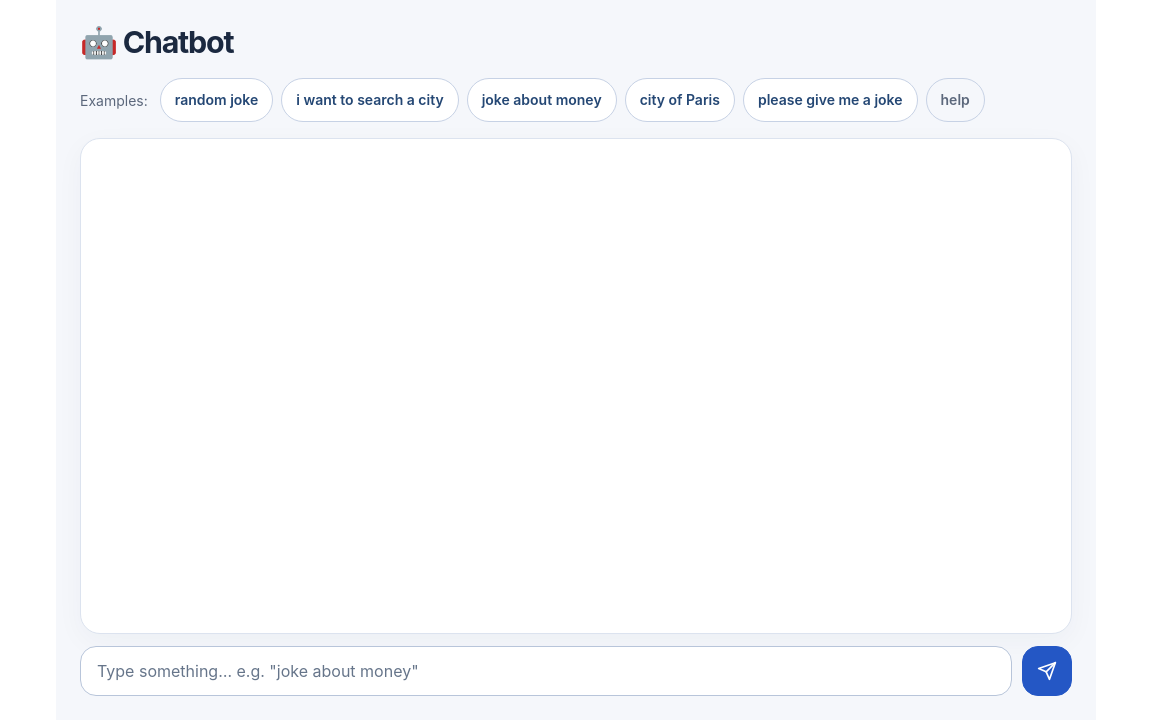
Test case: keeps the draft and never automatically repeats a failed POST
Type "Hi" into the field named "Chat message" at (546, 671), box [80,646,1012,696]
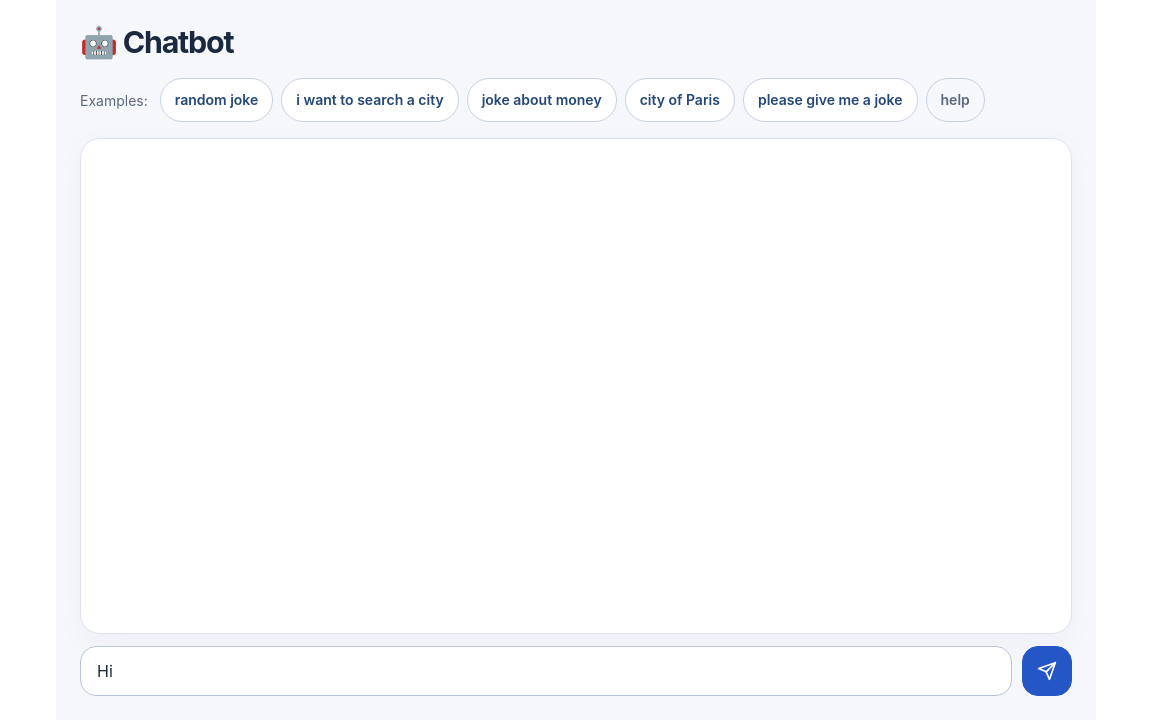
Press Enter in the field named "Chat message", box [80,646,1012,696]
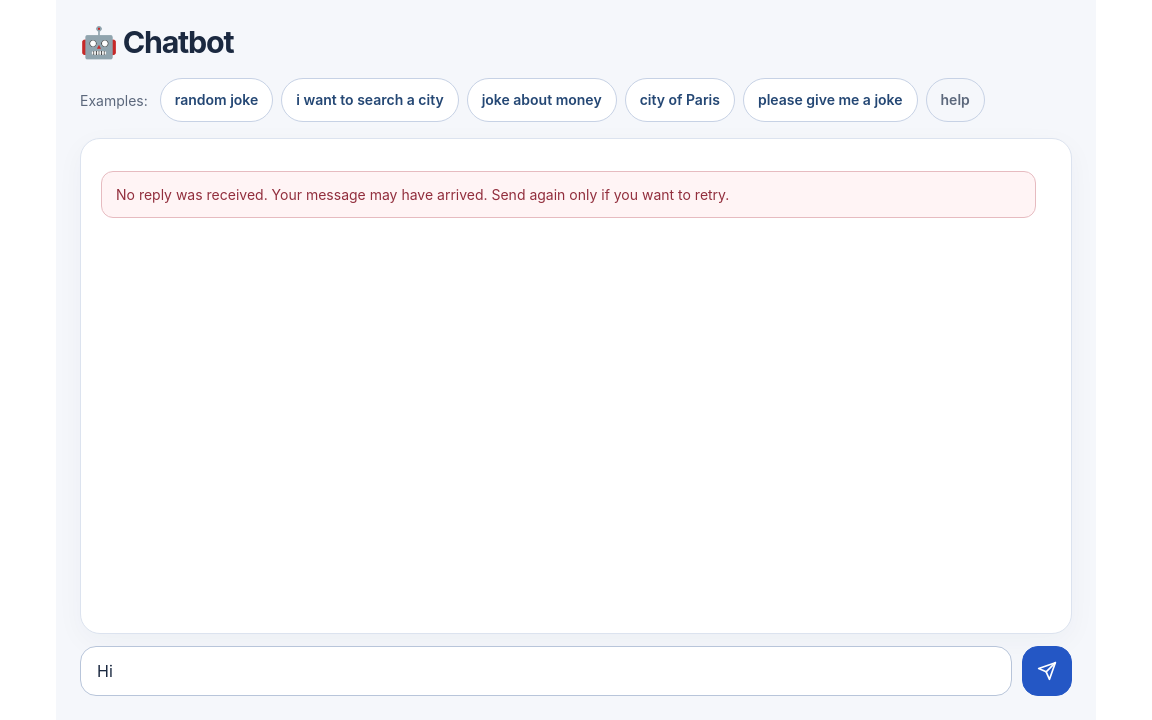
Expected: the message shows "message may have arrived", [116,186,729,204]
